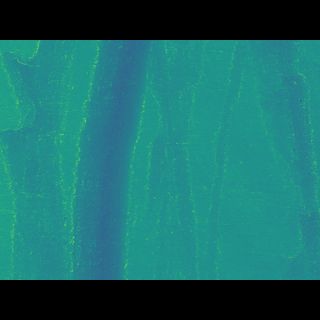Loch: (67, 69, 196, 250), (0, 70, 76, 249), (254, 70, 320, 237), (204, 71, 249, 248)
